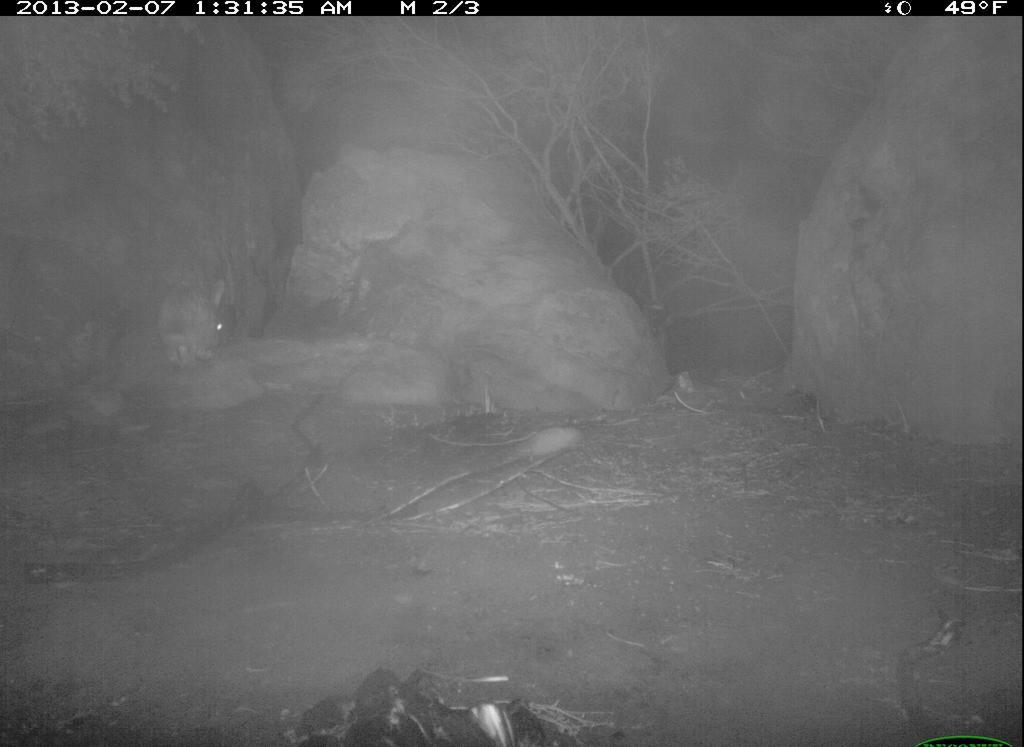rabbit: (139, 281, 273, 393)
